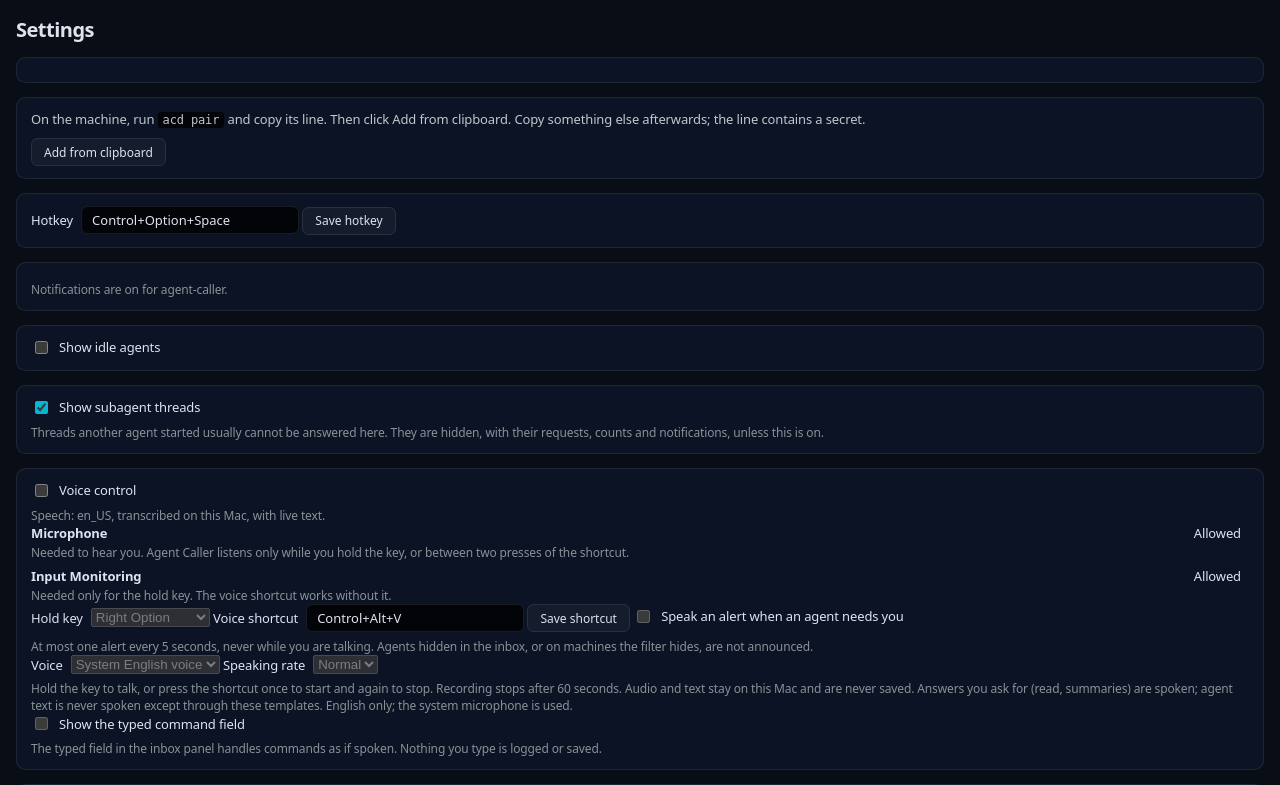
Test: the subagent toggle reflects the daemon's view and reverts when saving fails
The image size is (1280, 785).
Click the checkbox labelled "Show subagent threads".
click(42, 407)  # box [35,400,48,414]
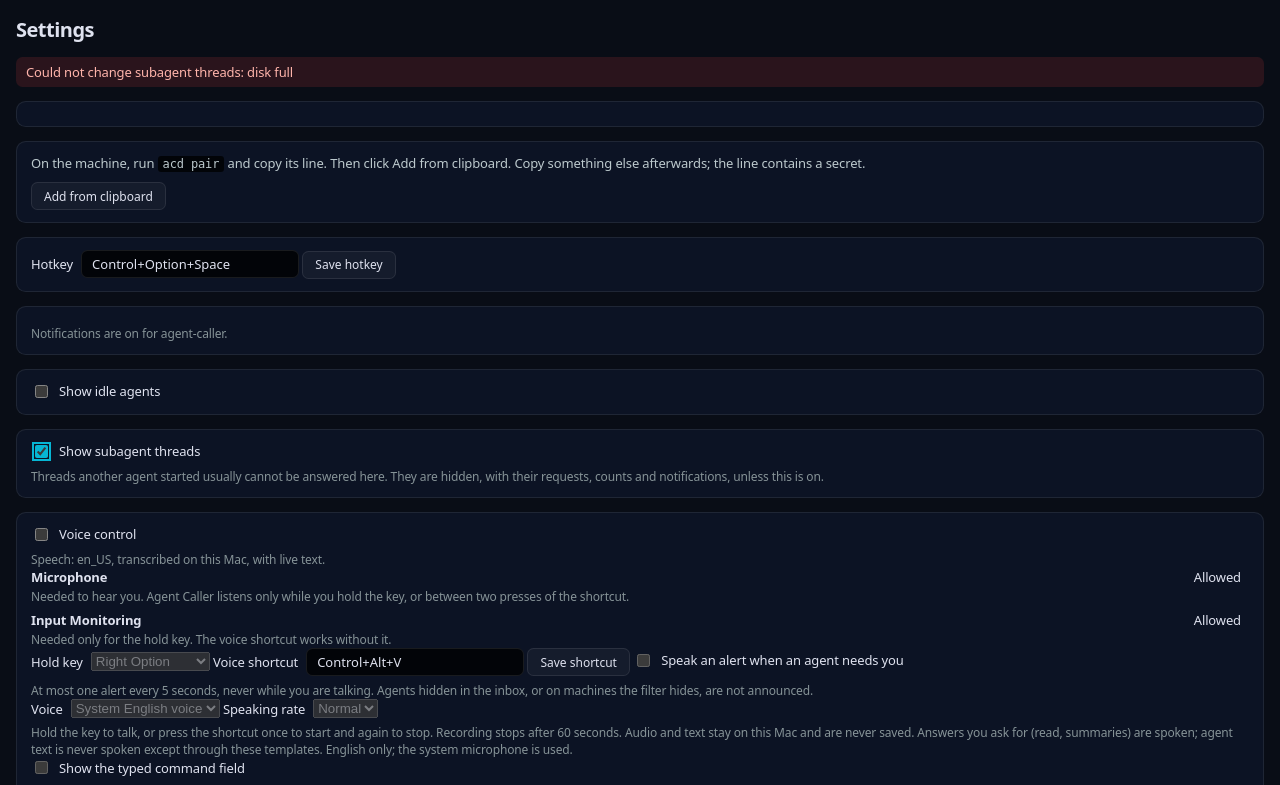
Expected: the checkbox labelled "Show subagent threads" is checked, [35,444,48,458]
Now the message "Could not change subagent threads: disk full" is shown, box [16,57,1264,87]
